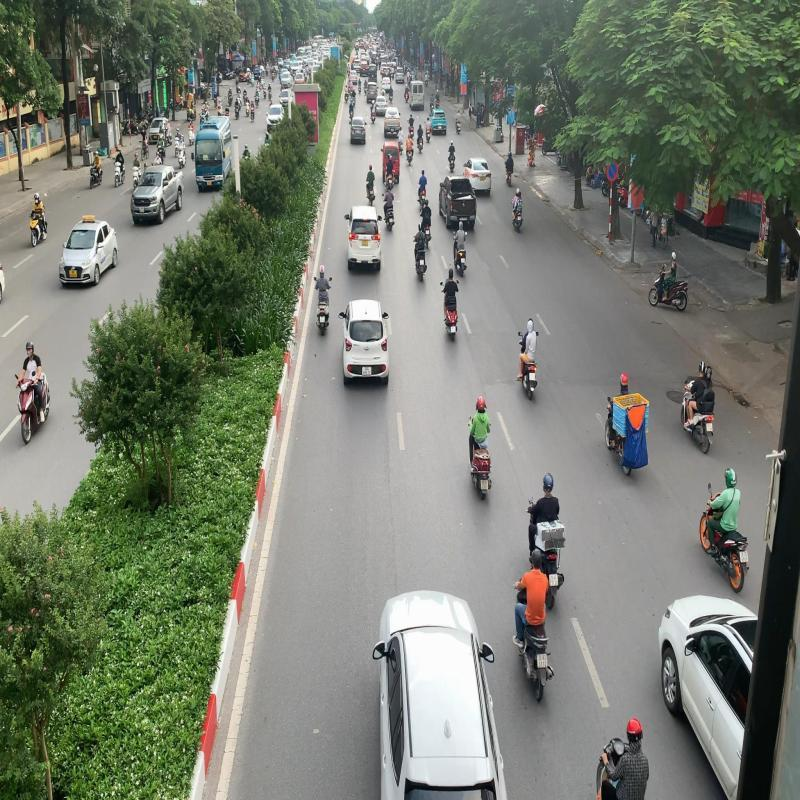helmet: (626, 718, 644, 746), (530, 548, 543, 570), (543, 472, 554, 494), (477, 396, 485, 412)
licenseplate: (536, 652, 548, 668), (549, 574, 559, 587), (480, 479, 488, 490)
motorcyclist: (512, 546, 556, 705), (526, 469, 566, 609), (468, 396, 494, 501)
